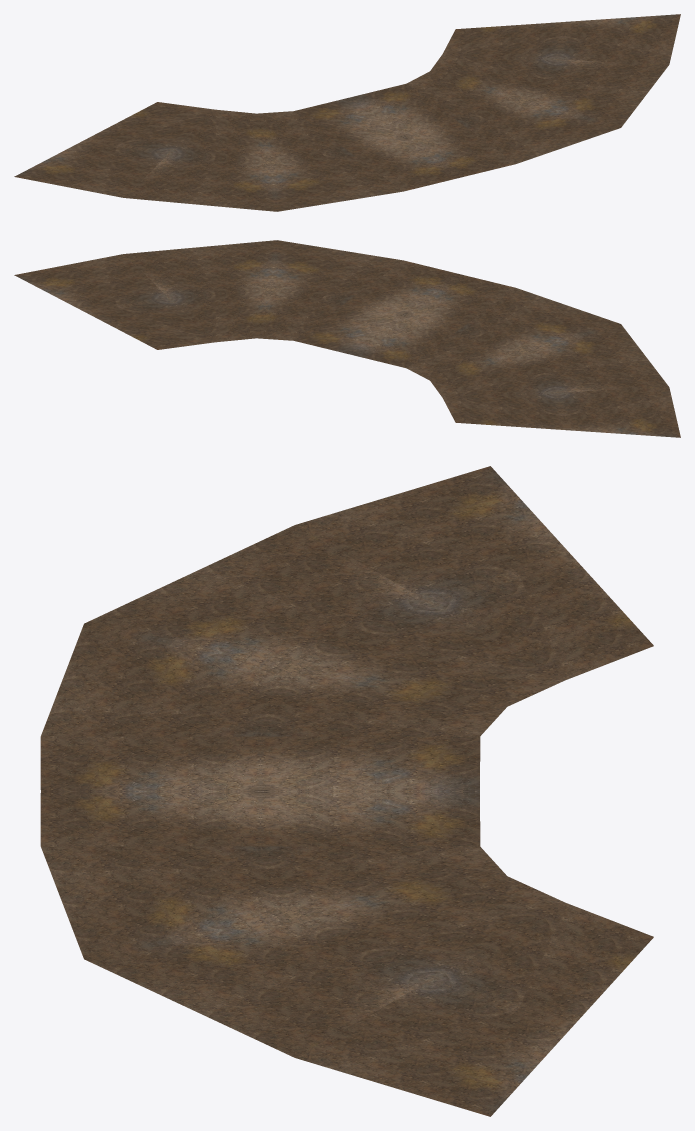
Rendered from JJC_dibiao_002.FBX.
The picture shows the model from 3 angles, top to bottom: view 1: azimuth 30°, elevation 25°; view 2: azimuth 150°, elevation 25°; view 3: azimuth 270°, elevation 25°; orthographic projection. The views are drawn at different scales.
Parts seen in each view (by area): view 1: JJC_dibiao_002; view 2: JJC_dibiao_002; view 3: JJC_dibiao_002.
Boxes of the visible parts, left/top/right/bottom form: JJC_dibiao_002: left=14, top=14, right=680, bottom=211; JJC_dibiao_002: left=14, top=240, right=680, bottom=437; JJC_dibiao_002: left=40, top=466, right=653, bottom=1116.
Bounding box in the file's own units: 3874 × 9.45e-14 × 1543.
